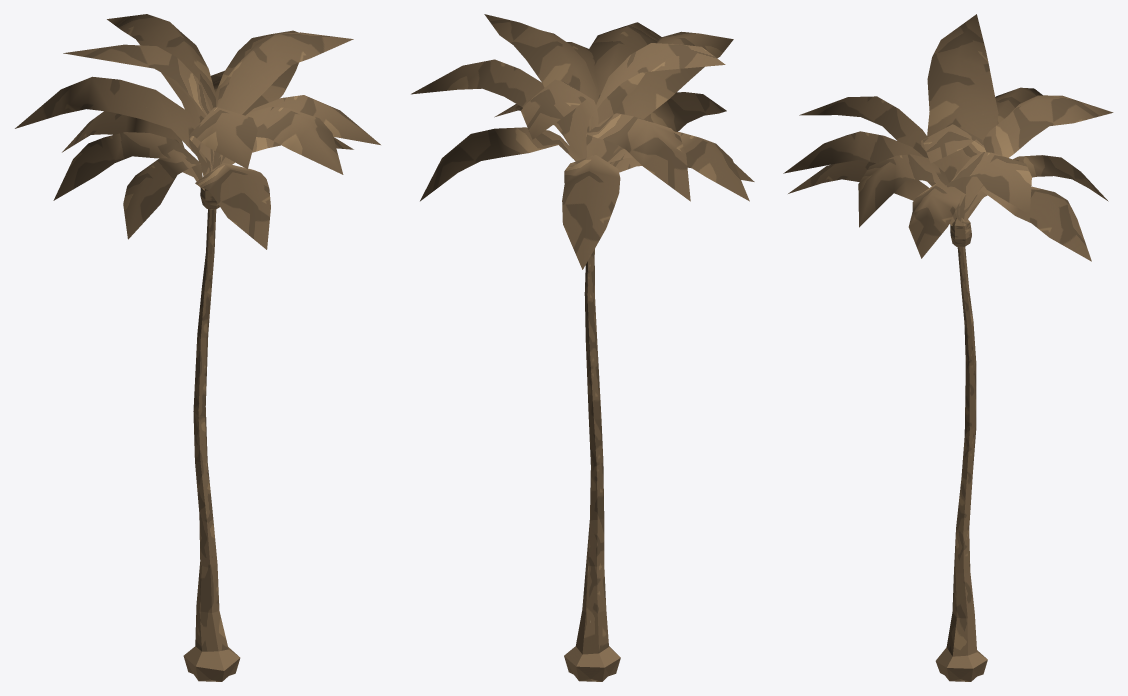
Rendered from SM_Env_Tree_Palm_04.glb.
3 renders of one model, left to right at view 1: azimuth 30°, elevation 25°; view 2: azimuth 150°, elevation 25°; view 3: azimuth 270°, elevation 25°, orthographic. The views are drawn at different scales.
Parts seen in each view (by area): view 1: SM_Env_Tree_Palm_04_LOD0; view 2: SM_Env_Tree_Palm_04_LOD0; view 3: SM_Env_Tree_Palm_04_LOD0.
Boxes of the visible parts, left/top/right/bottom form: SM_Env_Tree_Palm_04_LOD0: left=15, top=14, right=380, bottom=681; SM_Env_Tree_Palm_04_LOD0: left=411, top=14, right=754, bottom=681; SM_Env_Tree_Palm_04_LOD0: left=783, top=14, right=1113, bottom=681.
Size of what is drawn, in the model's own units: 7.34 by 15.2 by 7.53.
1 material, 1 textured.
